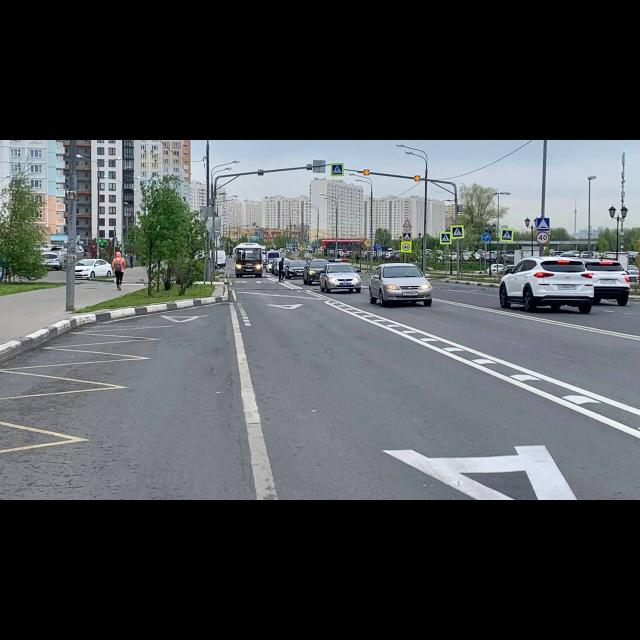road: (0, 274, 640, 500)
